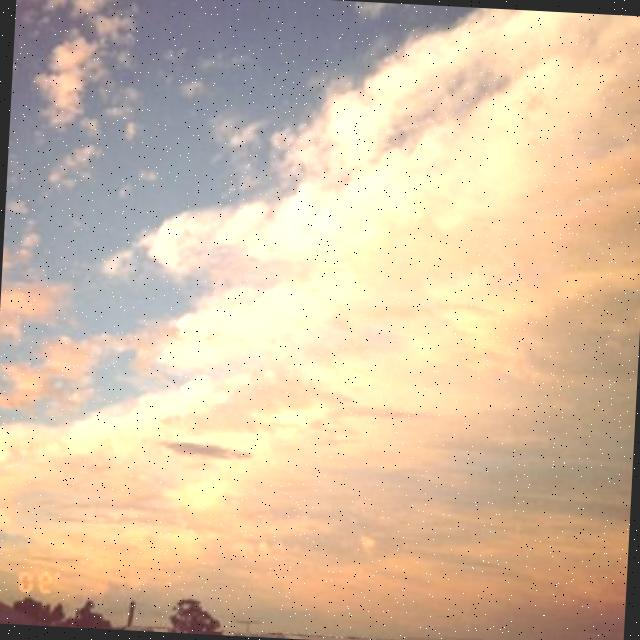As: (1, 12, 640, 476)
